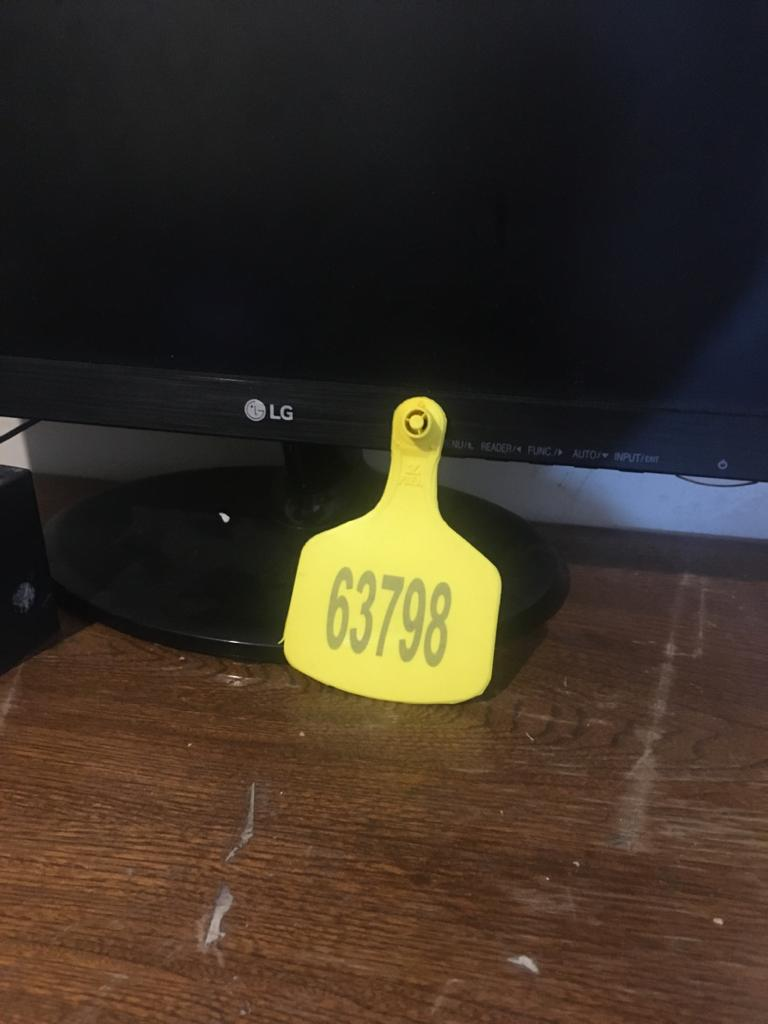digit: (324, 562, 459, 672)
